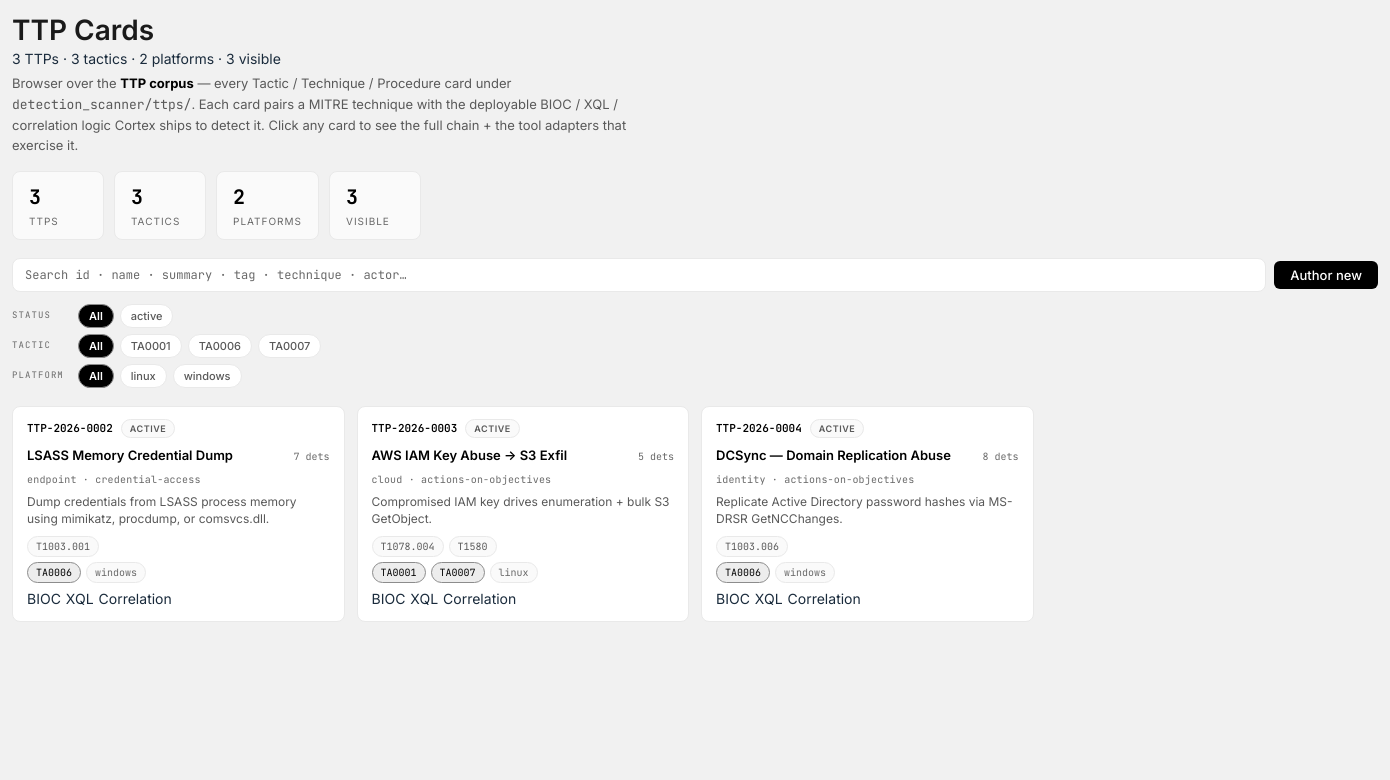
Test case: <TtpBrowserView /> › search matches tags and is tokenised with AND semantics
Check: the button with test id "ttp-card-TTP-2026-0002" is shown, box [12,406,344,622]
'mimikatz' tag lives on TTP-2026-0002
Type "mimikatz" into the search field with test id "ttp-search" at coordinates (639, 275), box [12,258,1266,292]
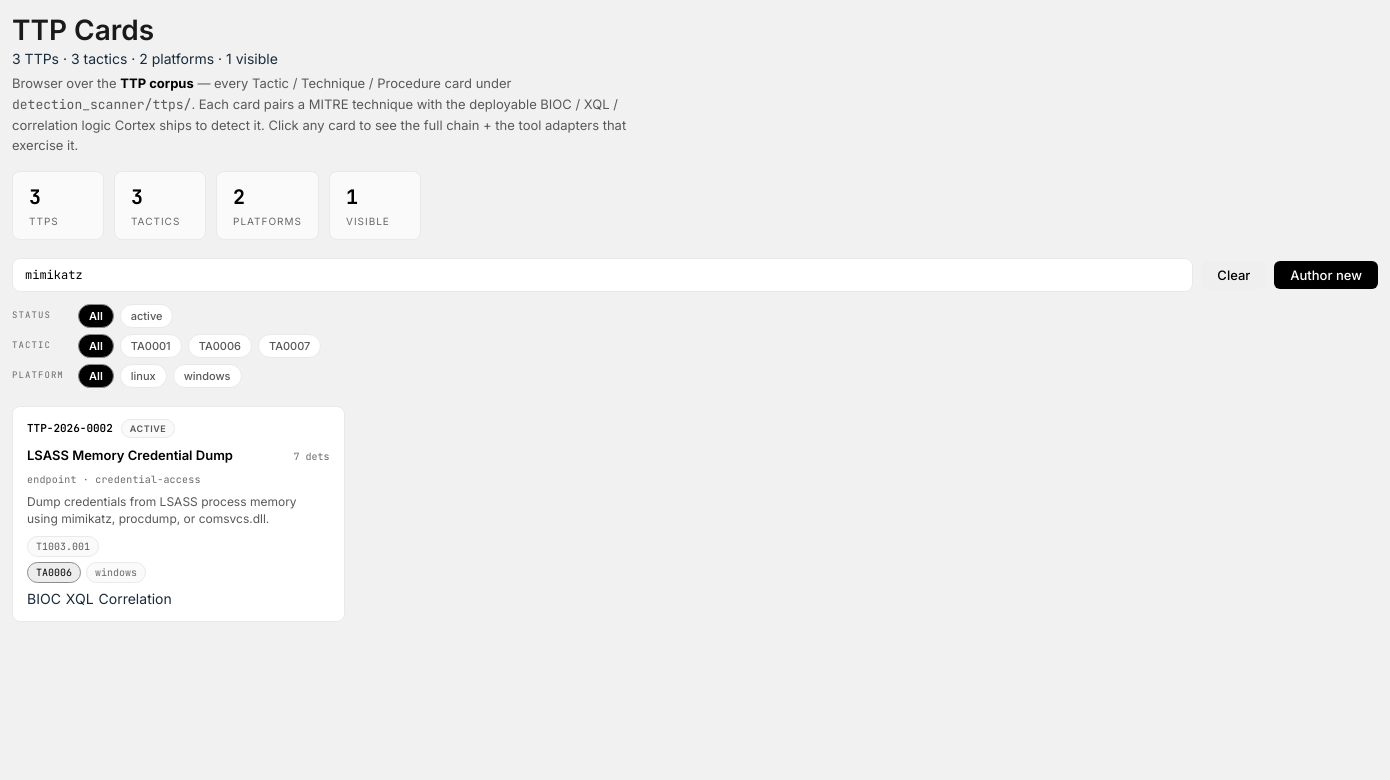
Check: the button with test id "ttp-card-TTP-2026-0002" is shown, box [12,406,344,622]
Check: the button with test id "ttp-card-TTP-2026-0004" is gone
Two tokens that don't co-occur on any card → empty
Replace the text in the search field with test id "ttp-search" with "mimikatz dcsync" at coordinates (603, 275), box [12,258,1193,292]
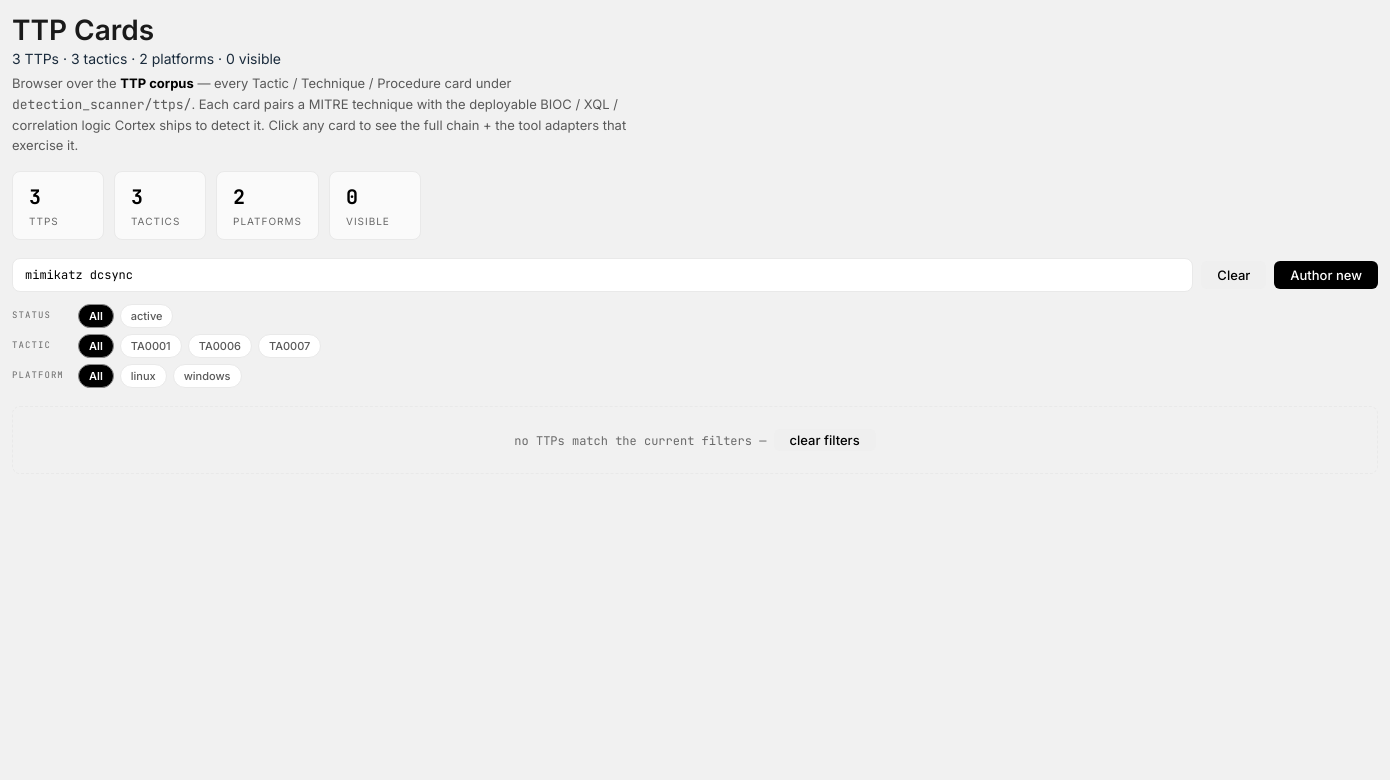
Check: the text "no TTPs match the current filters — clear filters" is shown, box [12,406,1378,474]
